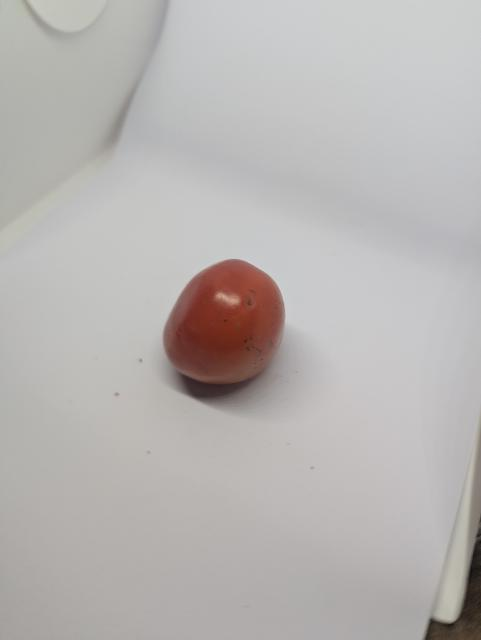red: (161, 258, 289, 388)
